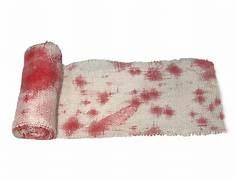cotton: (13, 42, 224, 138)
